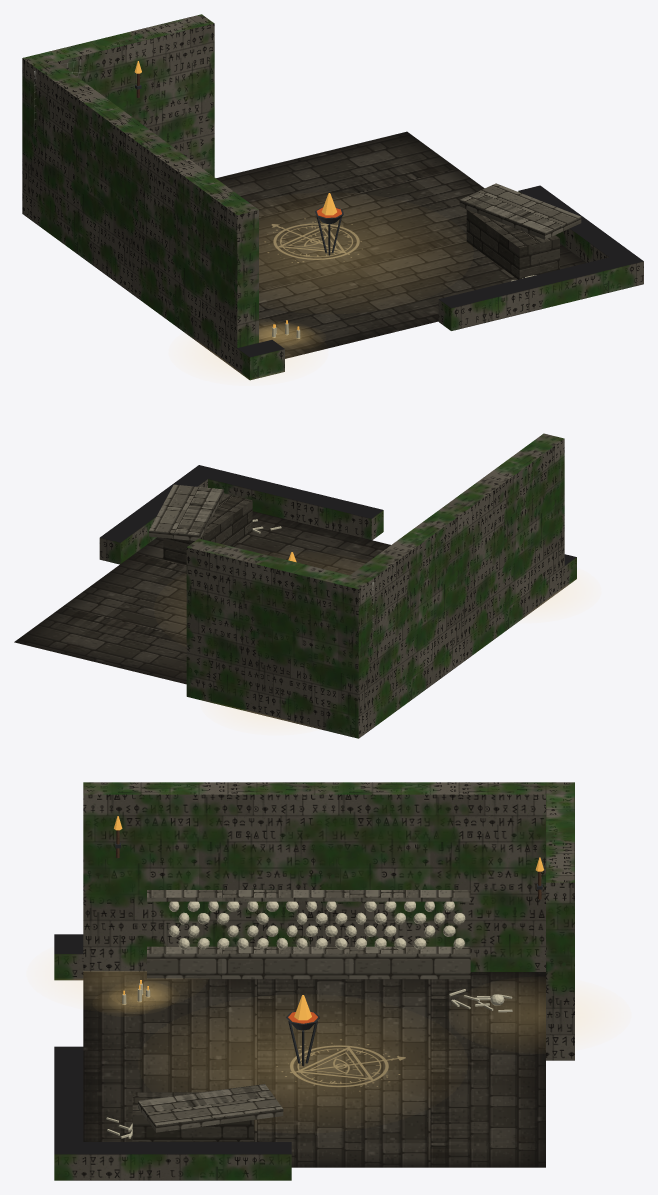
Rendered from cripta_trecho2.glb.
3 views of the same model, one above another, from view 1: azimuth 30°, elevation 25°; view 2: azimuth 150°, elevation 25°; view 3: azimuth 270°, elevation 25° (orthographic). The views are drawn at different scales.
Visible parts, largest first — view 1: cel_1_5, cel_1_4, cel_2_5, cel_2_6, cel_1_6; view 2: cel_1_5, cel_1_4, cel_2_5, cel_2_6; view 3: cel_1_5, cel_2_5, cel_1_4, cel_2_6, cel_1_6.
Boxes of the visible parts, x1=… form: cel_1_5: x1=35, y1=62, x2=586, y2=370; cel_1_4: x1=22, y1=14, x2=214, y2=222; cel_2_5: x1=459, y1=183, x2=630, y2=281; cel_2_6: x1=438, y1=252, x2=643, y2=330; cel_1_6: x1=237, y1=340, x2=284, y2=380; cel_1_5: x1=14, y1=433, x2=564, y2=729; cel_1_4: x1=186, y1=538, x2=373, y2=738; cel_2_5: x1=99, y1=474, x2=281, y2=564; cel_2_6: x1=187, y1=465, x2=383, y2=540; cel_1_5: x1=78, y1=782, x2=545, y2=1167; cel_2_5: x1=83, y1=1084, x2=291, y2=1180; cel_1_4: x1=490, y1=782, x2=581, y2=1060; cel_2_6: x1=54, y1=1046, x2=83, y2=1180; cel_1_6: x1=54, y1=934, x2=83, y2=980.
Size of the model in its own units: 10.2 by 3.41 by 10.89.
Materials: 24 (15 with a texture image).
